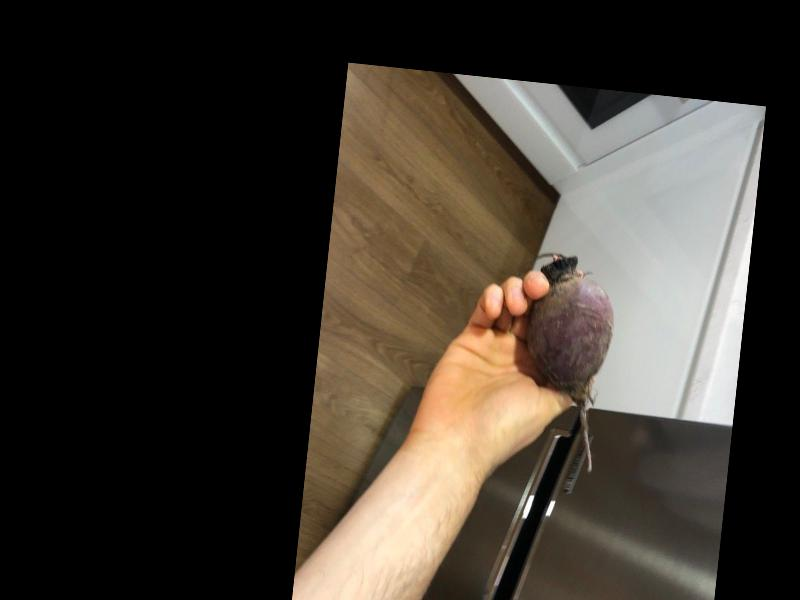Beet: (513, 250, 620, 472)
